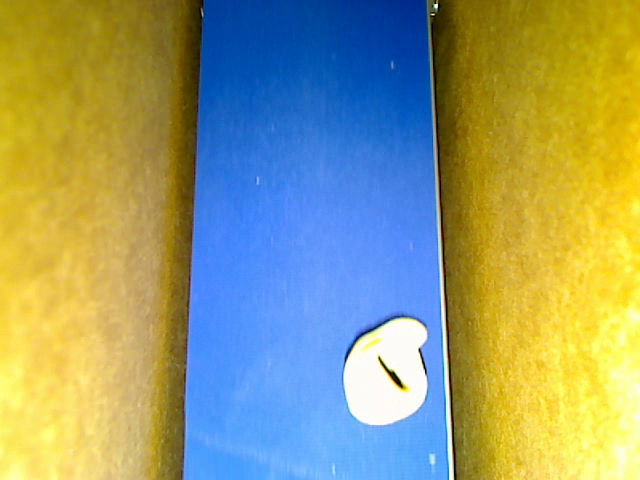tortellini: (341, 317, 428, 426)
